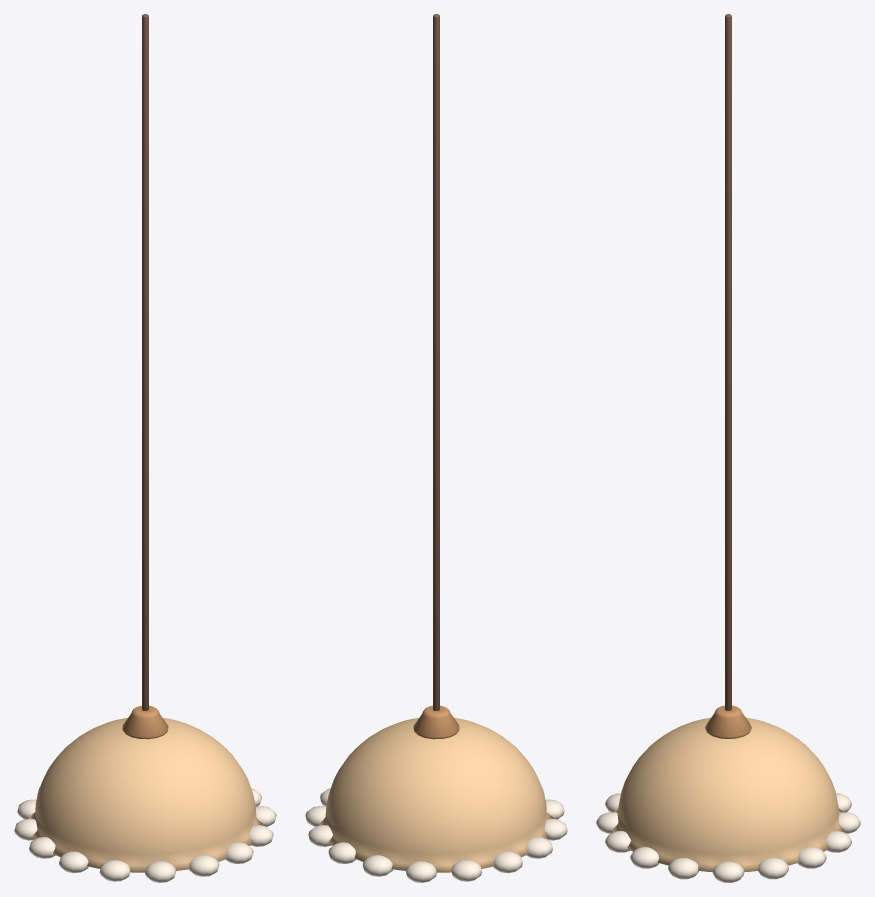
File: shoplamp.glb
3 views of the same model, side by side, from view 1: azimuth 30°, elevation 25°; view 2: azimuth 150°, elevation 25°; view 3: azimuth 270°, elevation 25° (orthographic).
Visible parts, largest first — view 1: shade, cord, cfff4e6, cap; view 2: shade, cord, cfff4e6, cap; view 3: shade, cord, cfff4e6, cap.
Boxes of the visible parts, box(x1,y1,x2,y2) form: shade: box(28, 718, 262, 872); cord: box(142, 14, 148, 710); cfff4e6: box(14, 787, 276, 882); cap: box(122, 705, 168, 739); shade: box(319, 718, 553, 872); cord: box(433, 14, 439, 710); cfff4e6: box(305, 787, 567, 882); cap: box(413, 705, 459, 739); shade: box(612, 717, 844, 871); cord: box(725, 14, 731, 710); cfff4e6: box(596, 793, 860, 882); cap: box(705, 705, 751, 738).
Bounding box in the file's own units: 1.47 × 5.2 × 1.48.
